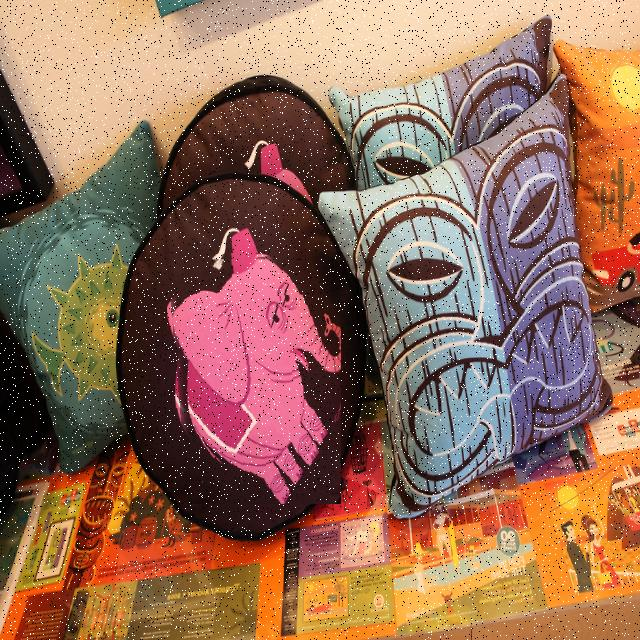elephant: (167, 252, 341, 504)
